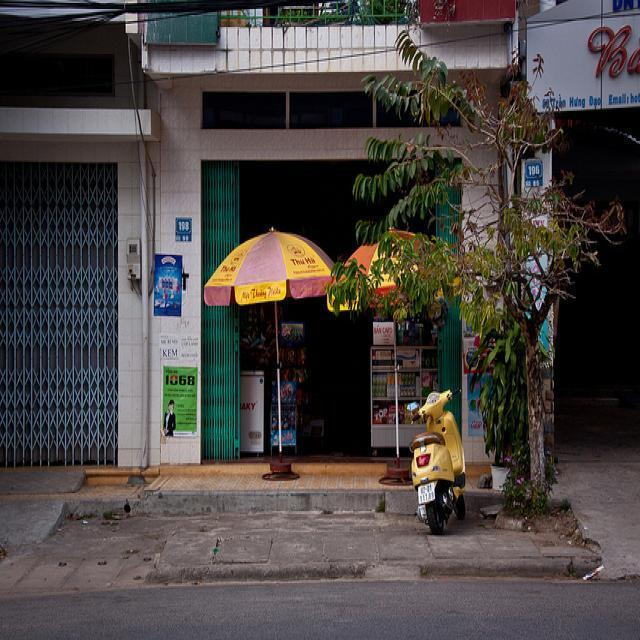motorcycle: (407, 374, 473, 537)
plate: (414, 479, 439, 504)
